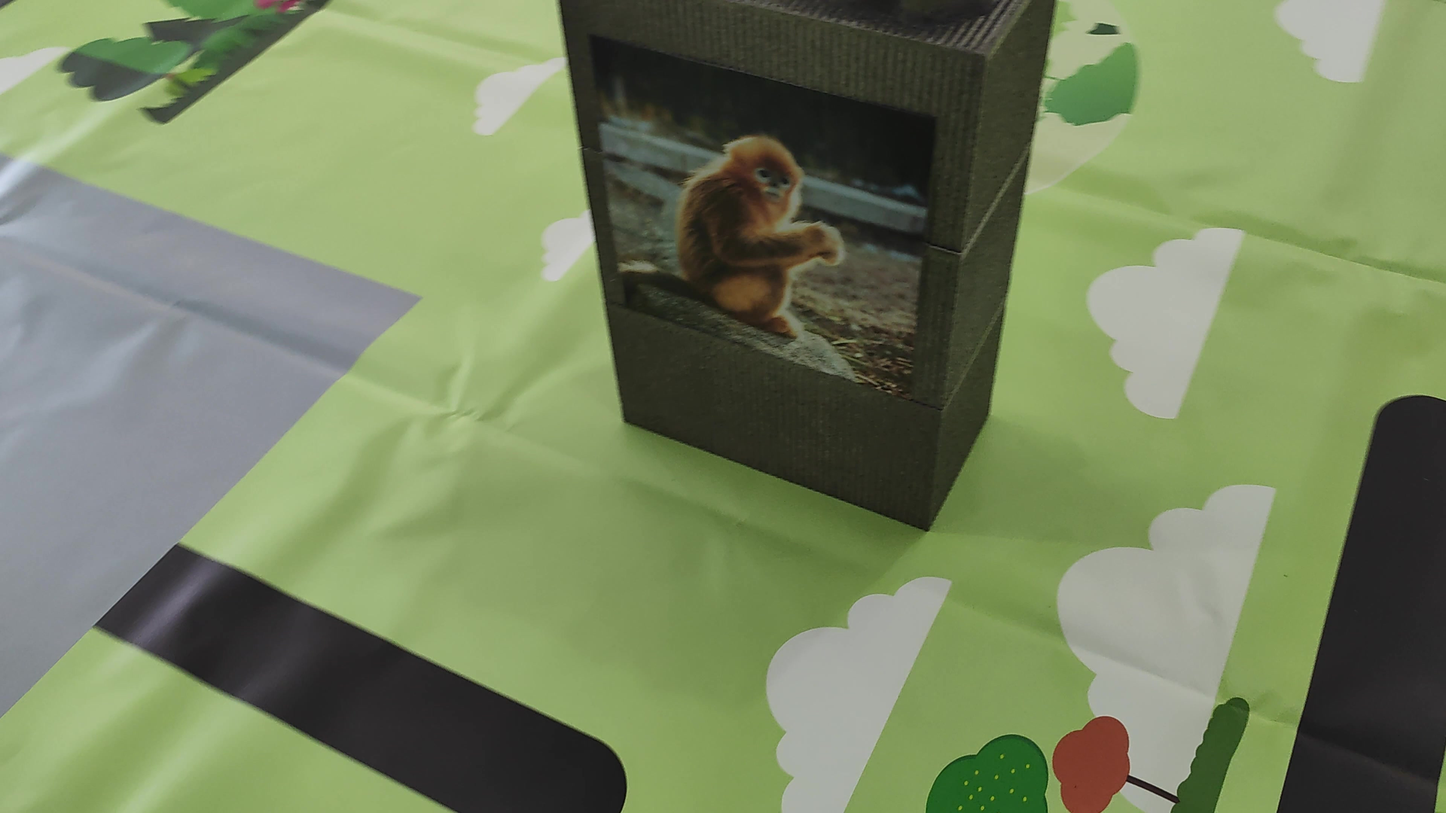monkey: (626, 101, 871, 343)
